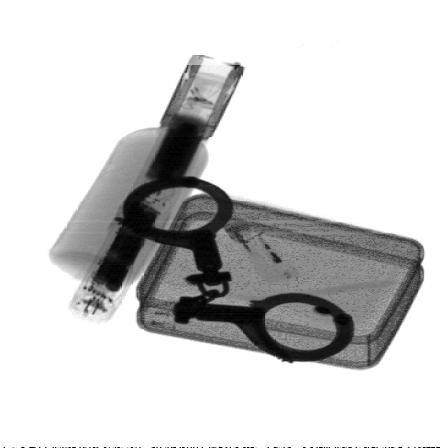Baton: (65, 56, 247, 324)
HandCuffs: (114, 176, 357, 363)
Lighter: (222, 219, 304, 285)
